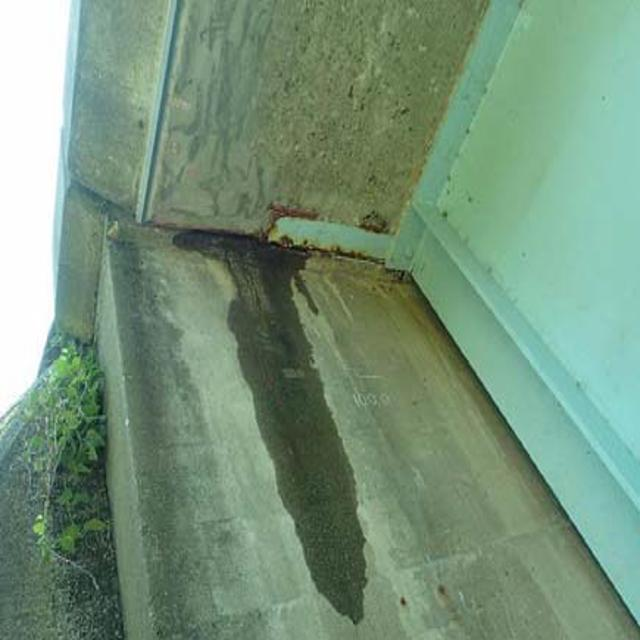leakage: (190, 204, 377, 629)
